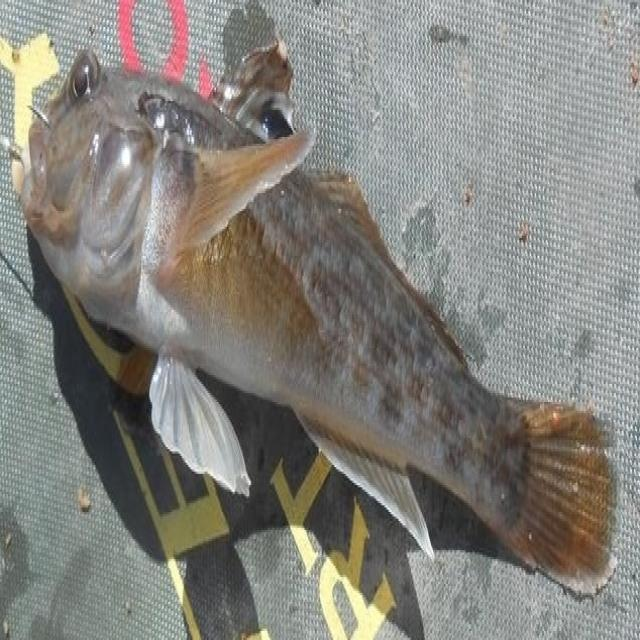Goby: (11, 5, 640, 603)
